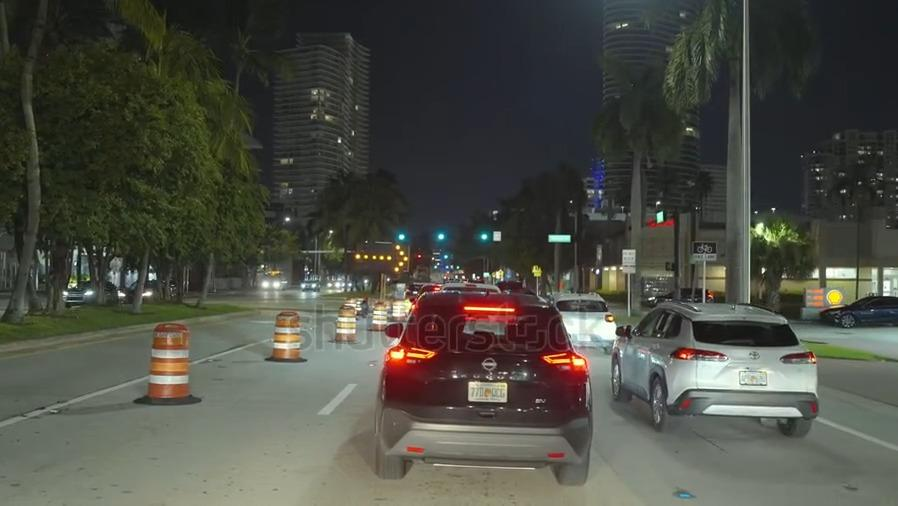arrow traffic sign: (353, 240, 411, 276)
bus: (260, 268, 287, 293)
car: (380, 294, 590, 482), (617, 301, 814, 433), (549, 289, 615, 351), (822, 291, 898, 327), (60, 275, 117, 309), (118, 276, 179, 306), (648, 285, 716, 310), (300, 276, 322, 293)
cone: (149, 319, 191, 399), (273, 307, 299, 359), (333, 300, 355, 341), (369, 299, 385, 330), (389, 295, 404, 321)
traffic light: (473, 225, 495, 250), (429, 226, 450, 249), (390, 227, 411, 246)
wheel: (645, 374, 671, 429), (609, 355, 629, 406)
